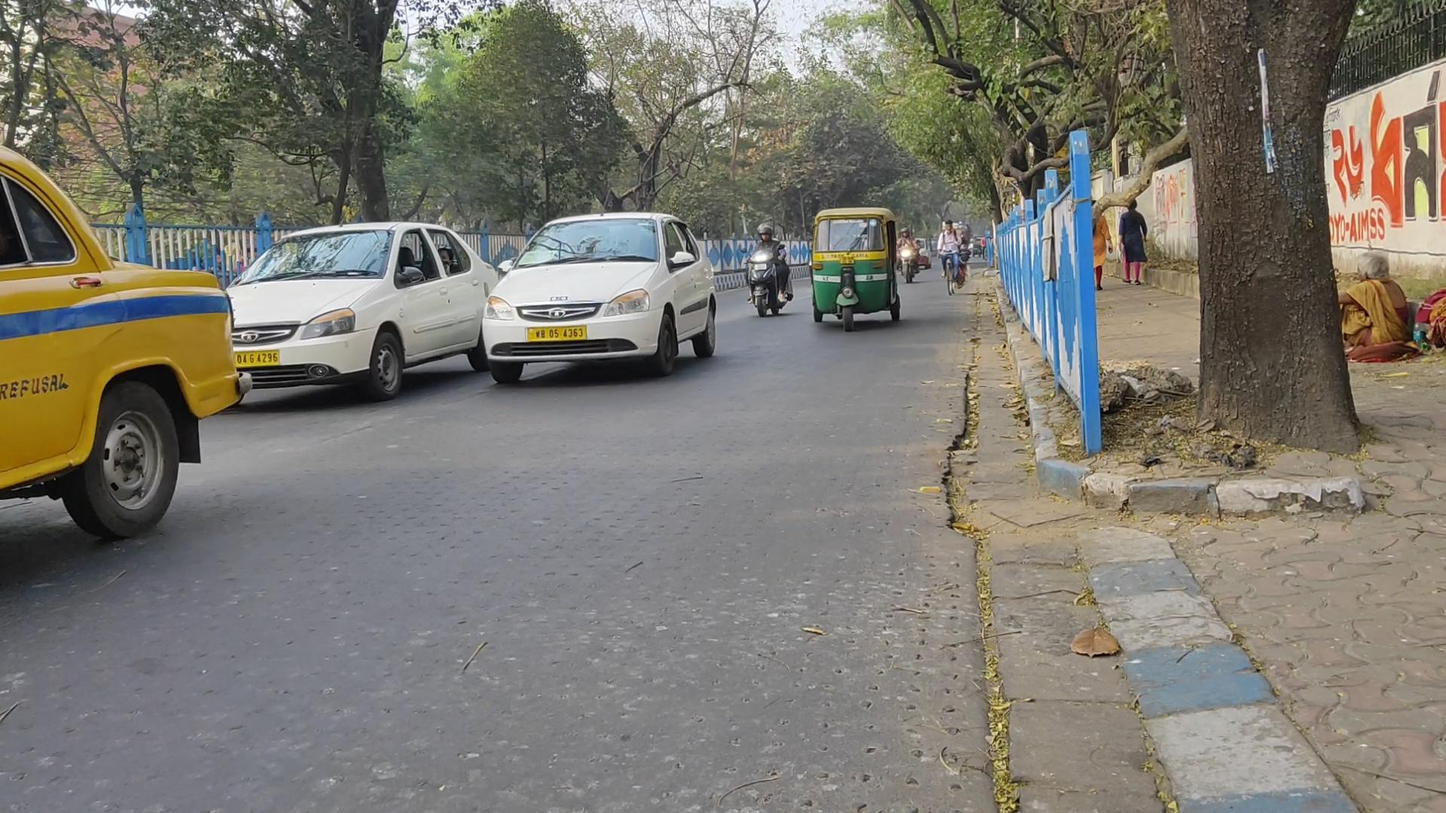Auto: (810, 207, 901, 332)
bike: (744, 220, 795, 318), (937, 220, 966, 295), (896, 227, 920, 285)
car: (1, 142, 253, 538), (234, 220, 497, 403), (482, 212, 716, 381)
